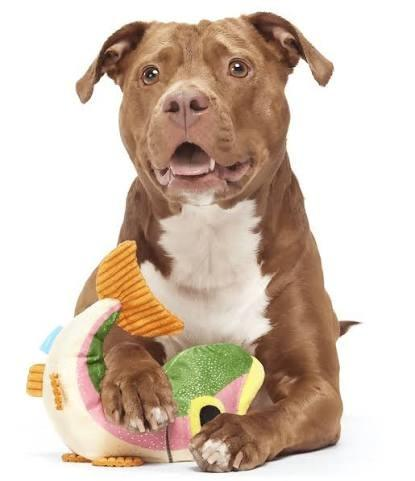adult_dog: (73, 10, 362, 474)
